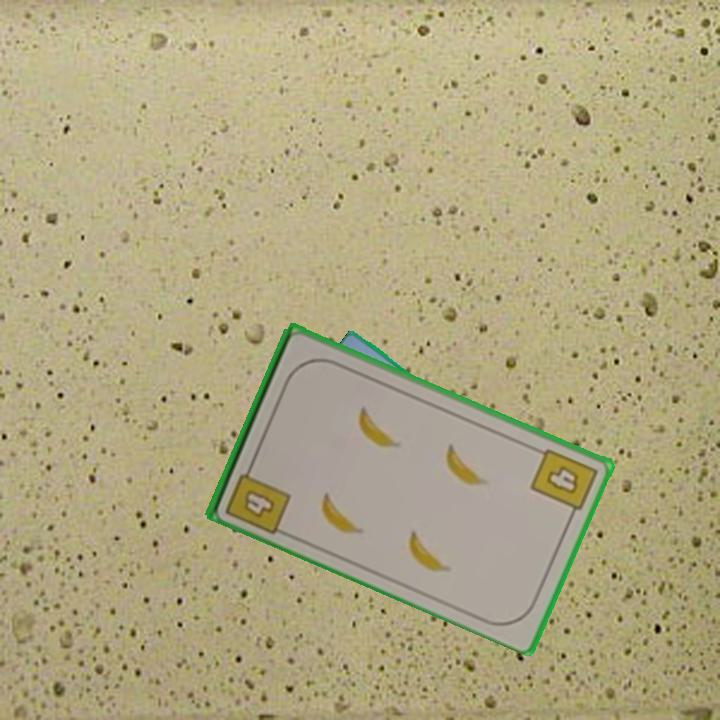4b: (526, 444, 601, 522), (221, 457, 294, 537)
